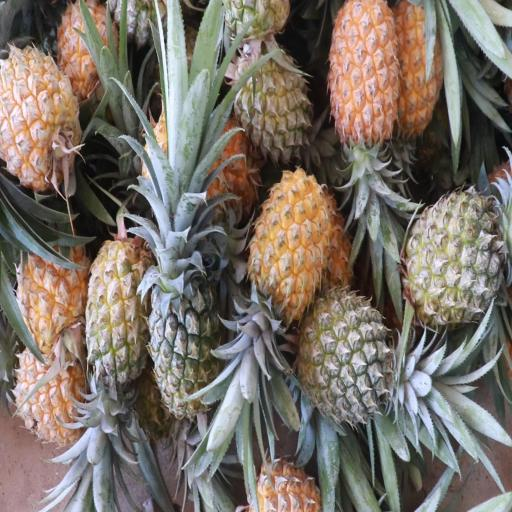------------------------------: (90, 234, 154, 406)
Pineapple - v8 v1: (332, 0, 403, 234), (256, 168, 328, 397), (0, 57, 99, 190), (15, 228, 97, 360), (400, 1, 449, 148), (58, 2, 126, 107), (16, 362, 93, 450)
